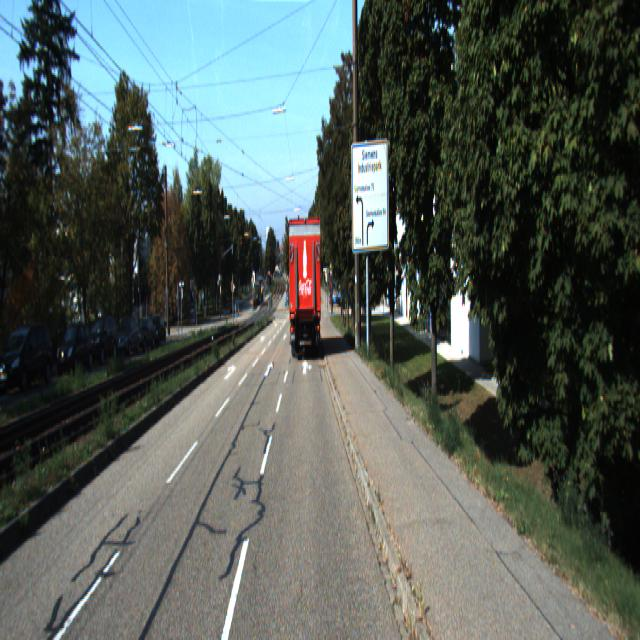Car: (285, 220, 322, 367), (0, 324, 55, 395), (57, 322, 96, 376), (83, 316, 118, 364), (114, 315, 140, 359), (131, 318, 154, 352)
